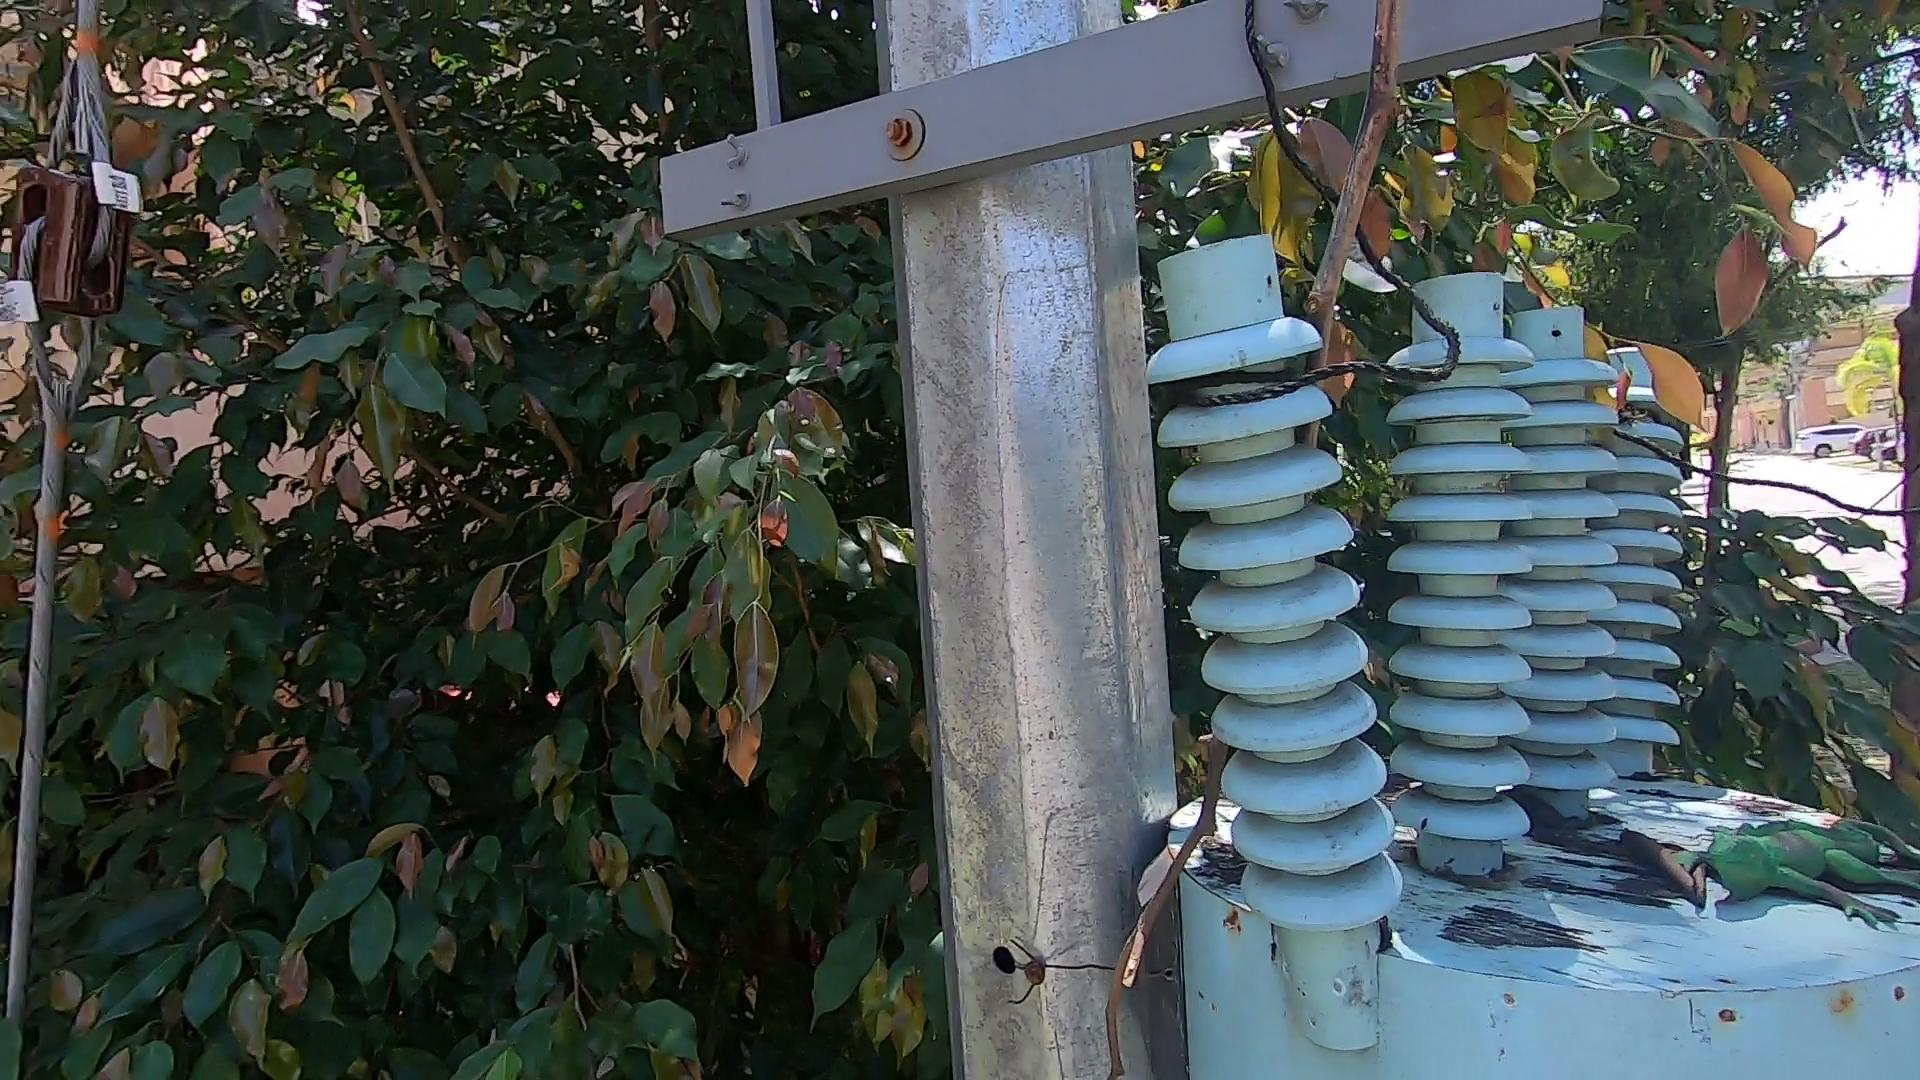branch with leaves: (1561, 310, 1745, 448)
leaf: (1622, 818, 1717, 919), (1519, 789, 1592, 848), (1197, 827, 1247, 895)
tree branch: (1021, 3, 1520, 1080)
